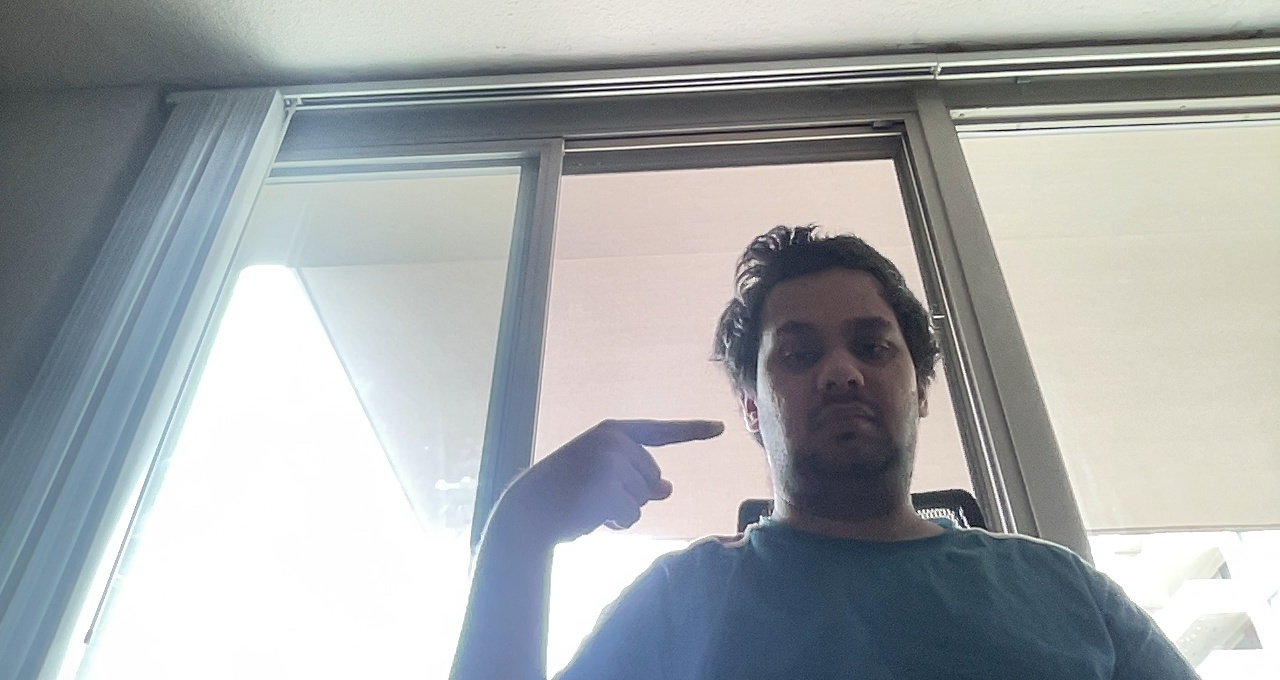fingerleft: (477, 412, 731, 535)
